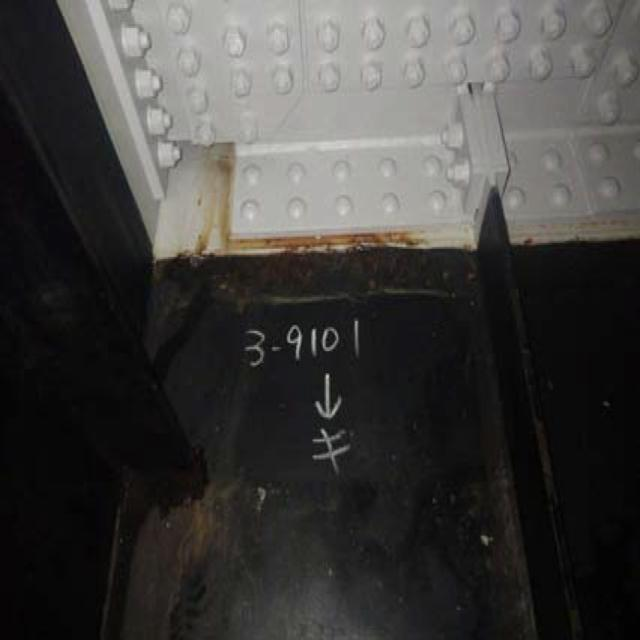corrosion: (176, 180, 436, 296)
